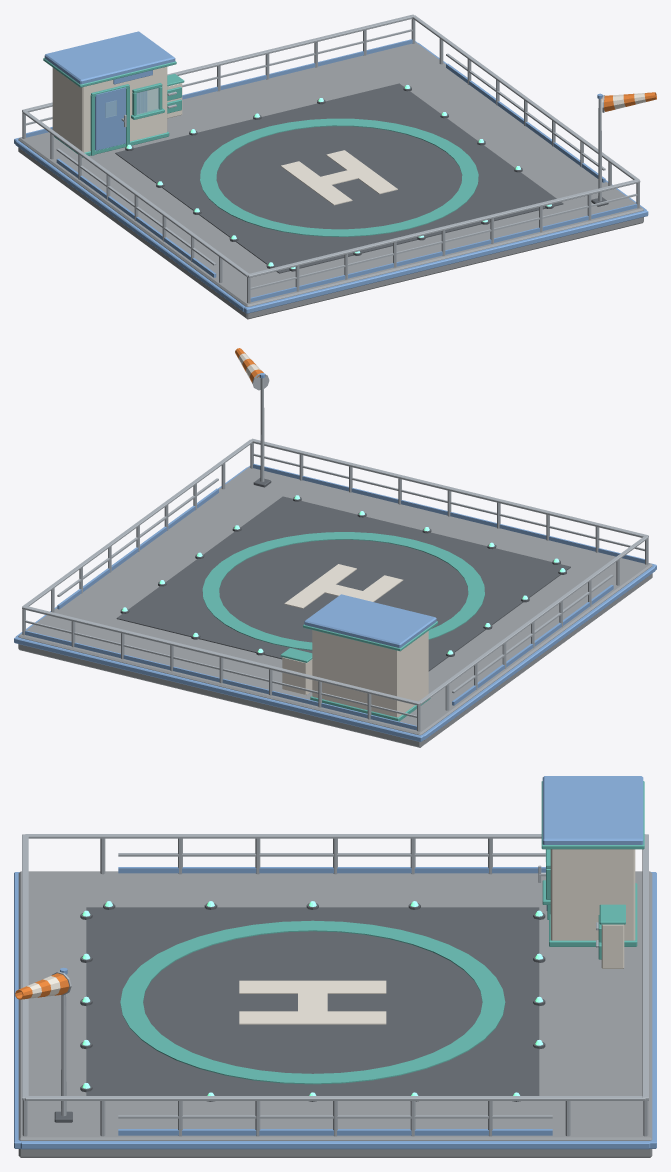
Rendered from hospital-rooftop-helipad.glb.
The picture shows the model from 3 angles, top to bottom: view 1: azimuth 30°, elevation 25°; view 2: azimuth 150°, elevation 25°; view 3: azimuth 270°, elevation 25°; orthographic projection. The views are drawn at different scales.
Parts seen in each view (by area): view 1: Deck_Slab, Pad_Square, Pad_Circle, Hut_Body, Hut_Roof, Deck_Edge_Trim_S, Pad_H, Railing_Kick_S, Railing_Top_S, Deck_Edge_Trim_W, Door, Railing_Top_N (+12 smaller); view 2: Deck_Slab, Pad_Square, Hut_Body, Pad_Circle, Hut_Roof, Deck_Edge_Trim_N, Railing_Kick_N, Pad_H, Railing_Top_N, Railing_Kick_S, Railing_Top_S, Deck_Edge_Trim_W (+9 smaller); view 3: Deck_Slab, Pad_Square, Pad_Circle, Hut_Roof, Hut_Body, Deck_Edge_Trim_E, Pad_H, Railing_Top_E, Railing_Kick_E, Railing_Kick_W, Railing_Top_W, Railing_Top_N (+11 smaller).
Boxes of the visible parts, bbox=[...] form: Deck_Slab: bbox=[18, 42, 643, 319]; Pad_Square: bbox=[115, 83, 563, 273]; Pad_Circle: bbox=[200, 118, 478, 236]; Hut_Body: bbox=[52, 66, 167, 152]; Hut_Roof: bbox=[44, 31, 175, 84]; Deck_Edge_Trim_S: bbox=[244, 209, 648, 313]; Pad_H: bbox=[281, 150, 397, 205]; Railing_Kick_S: bbox=[250, 203, 637, 302]; Railing_Top_S: bbox=[247, 179, 640, 277]; Deck_Edge_Trim_W: bbox=[15, 140, 245, 311]; Door: bbox=[95, 87, 125, 150]; Railing_Top_N: bbox=[22, 14, 414, 112]; Deck_Slab: bbox=[18, 466, 652, 747]; Pad_Square: bbox=[116, 496, 570, 671]; Hut_Body: bbox=[312, 630, 428, 717]; Pad_Circle: bbox=[202, 532, 484, 650]; Hut_Roof: bbox=[304, 594, 436, 647]; Deck_Edge_Trim_N: bbox=[14, 636, 423, 741]; Railing_Kick_N: bbox=[25, 630, 416, 730]; Pad_H: bbox=[284, 564, 403, 608]; Railing_Top_N: bbox=[22, 605, 420, 705]; Railing_Kick_S: bbox=[253, 464, 644, 563]; Railing_Top_S: bbox=[250, 438, 648, 537]; Deck_Edge_Trim_W: bbox=[422, 566, 655, 740]; Deck_Slab: bbox=[18, 871, 652, 1157]; Pad_Square: bbox=[86, 907, 539, 1095]; Pad_Circle: bbox=[120, 920, 505, 1084]; Hut_Roof: bbox=[542, 776, 643, 844]; Hut_Body: bbox=[550, 849, 635, 940]; Deck_Edge_Trim_E: bbox=[20, 1141, 650, 1149]; Pad_H: bbox=[239, 980, 386, 1024]; Railing_Top_E: bbox=[25, 1096, 645, 1100]; Railing_Kick_E: bbox=[118, 1129, 552, 1135]; Railing_Kick_W: bbox=[118, 867, 545, 873]; Railing_Top_W: bbox=[26, 834, 541, 838]; Railing_Top_N: bbox=[642, 834, 648, 1100].
Size of the model in its own units: 58.28 by 17.17 by 56.8.
